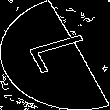L_E: (15, 31, 95, 79)
